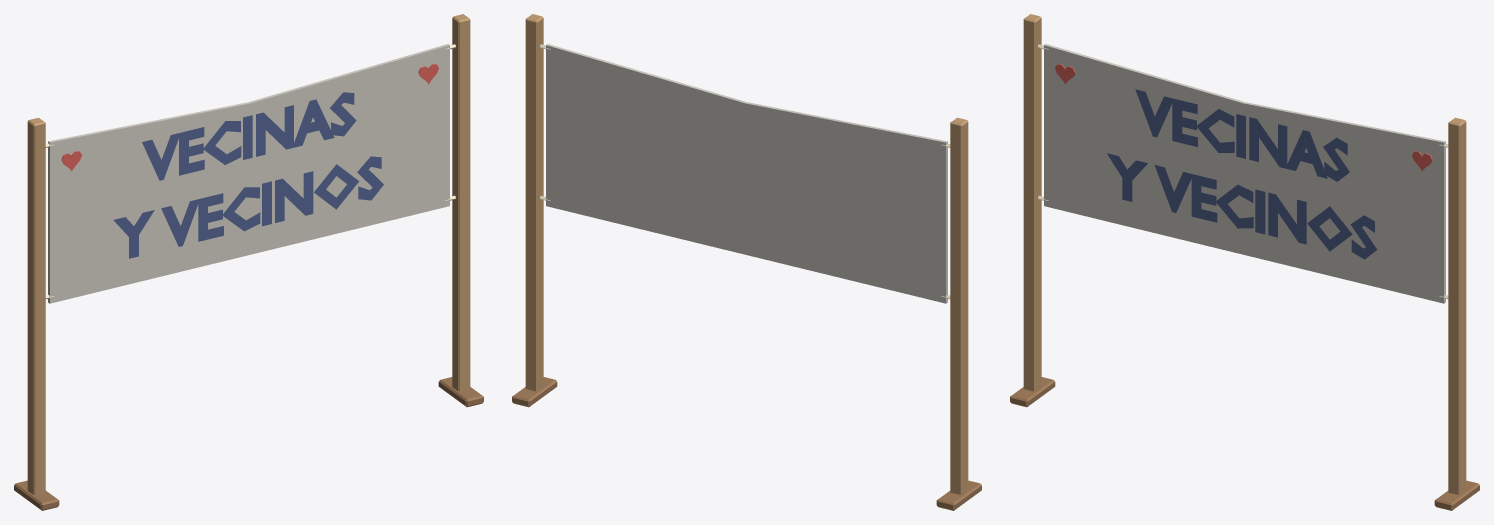
File: prop_banner_01.glb
3 views of the same model, side by side, from view 1: azimuth 30°, elevation 25°; view 2: azimuth 150°, elevation 25°; view 3: azimuth 330°, elevation 25° (orthographic).
Visible parts, largest first — view 1: prop_banner_01_body; view 2: prop_banner_01_body; view 3: prop_banner_01_body.
Part boxes in pixels (x1,y1,x2,y2): prop_banner_01_body: (14, 14, 483, 510); prop_banner_01_body: (512, 14, 981, 510); prop_banner_01_body: (1010, 14, 1479, 510).
Size of the model in its own units: 2.88 by 2.35 by 0.32.
